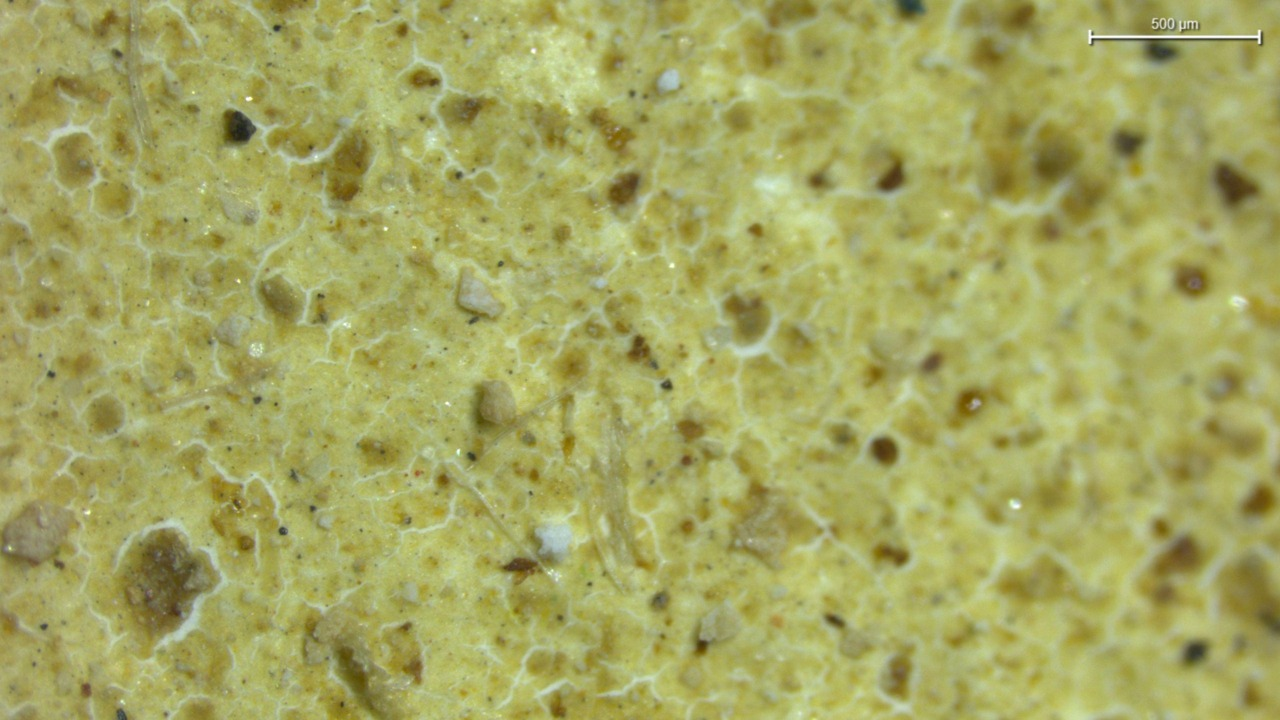microplastic_fragment: (0, 501, 74, 564), (697, 600, 742, 649), (457, 269, 501, 317), (477, 380, 516, 426)
